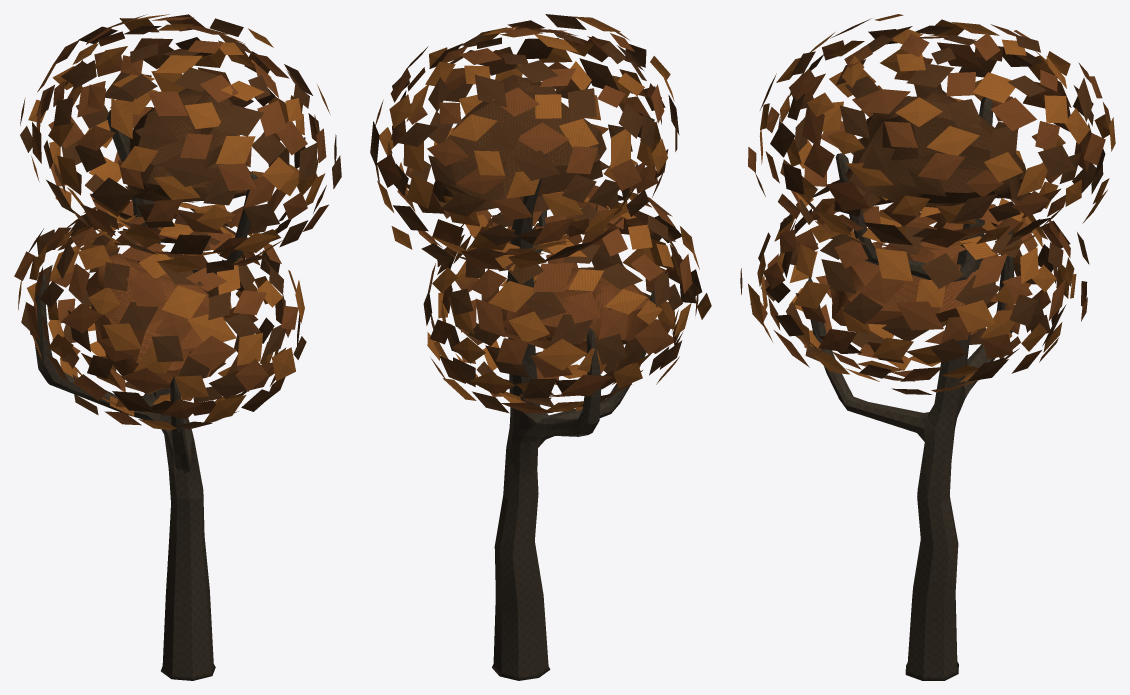
The model's file is autumn-tree-copper-lod.glb.
The picture shows the model from 3 angles, left to right: view 1: azimuth 30°, elevation 25°; view 2: azimuth 150°, elevation 25°; view 3: azimuth 270°, elevation 25°; orthographic projection.
Parts seen in each view (by area): view 1: autumn-tree-copper-leaf-envelope-2, autumn-tree-copper-leaf-envelope-1, autumn-tree-copper-trunk-and-branches, autumn-tree-copper-canopy-lobe-2, autumn-tree-copper-canopy-lobe-1; view 2: autumn-tree-copper-leaf-envelope-2, autumn-tree-copper-leaf-envelope-1, autumn-tree-copper-trunk-and-branches, autumn-tree-copper-canopy-lobe-2, autumn-tree-copper-canopy-lobe-1; view 3: autumn-tree-copper-leaf-envelope-2, autumn-tree-copper-leaf-envelope-1, autumn-tree-copper-trunk-and-branches, autumn-tree-copper-canopy-lobe-2, autumn-tree-copper-canopy-lobe-1.
Part boxes in pixels (box(x1,y1,x2,y2)): autumn-tree-copper-leaf-envelope-2: box(20, 14, 341, 273); autumn-tree-copper-leaf-envelope-1: box(14, 198, 306, 430); autumn-tree-copper-trunk-and-branches: box(34, 110, 257, 680); autumn-tree-copper-canopy-lobe-2: box(127, 88, 251, 202); autumn-tree-copper-canopy-lobe-1: box(86, 253, 225, 389); autumn-tree-copper-leaf-envelope-2: box(370, 14, 679, 270); autumn-tree-copper-leaf-envelope-1: box(423, 189, 711, 413); autumn-tree-copper-trunk-and-branches: box(492, 154, 655, 680); autumn-tree-copper-canopy-lobe-2: box(432, 75, 606, 211); autumn-tree-copper-canopy-lobe-1: box(484, 268, 648, 356); autumn-tree-copper-leaf-envelope-2: box(748, 14, 1115, 254); autumn-tree-copper-leaf-envelope-1: box(740, 180, 1089, 394); autumn-tree-copper-trunk-and-branches: box(808, 97, 1014, 680); autumn-tree-copper-canopy-lobe-2: box(845, 88, 1026, 207); autumn-tree-copper-canopy-lobe-1: box(830, 221, 1003, 326).
Bounding box in the file's own units: 3.53 × 7.94 × 4.26.
6 materials, 6 textured.
